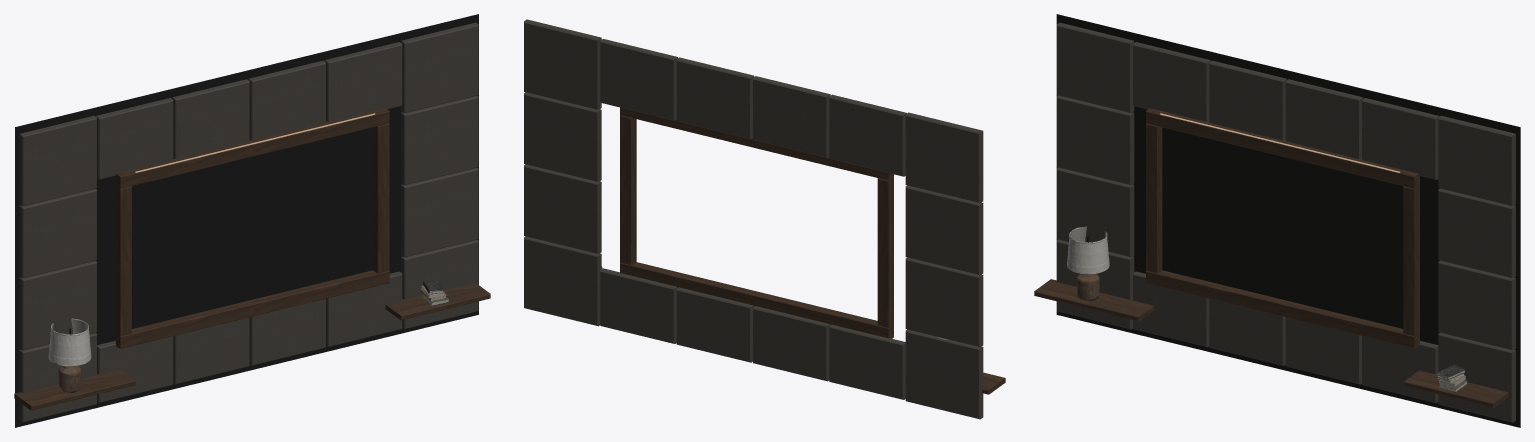
The model's file is linen.glb.
3 views of the same model, side by side, from view 1: azimuth 30°, elevation 25°; view 2: azimuth 150°, elevation 25°; view 3: azimuth 330°, elevation 25° (orthographic).
Visible parts, largest first — view 1: acoustic-tiles, backing, trim, prop-lamp, ledge-l, ledge-r, prop-books, led; view 2: acoustic-tiles, trim; view 3: acoustic-tiles, backing, trim, prop-lamp, ledge-l, ledge-r, prop-books, led.
Part boxes in pixels (x1,y1,x2,y2): acoustic-tiles: (19,22,478,422); backing: (15,14,478,427); trim: (115,108,389,348); prop-lamp: (48,318,91,392); ledge-l: (14,369,135,410); ledge-r: (385,283,490,320); prop-books: (421,280,448,305); led: (135,113,375,172); acoustic-tiles: (524,19,983,419); trim: (620,107,893,338); acoustic-tiles: (1056,22,1515,422); backing: (1056,14,1520,427); trim: (1146,108,1419,348); prop-lamp: (1067,226,1109,300); ledge-l: (1034,279,1154,321); ledge-r: (1404,370,1508,407); prop-books: (1437,364,1467,392); led: (1160,113,1400,172).
Size of the model in its own units: 3.12 by 1.92 by 0.2591.
Materials: 6 (4 with a texture image).
